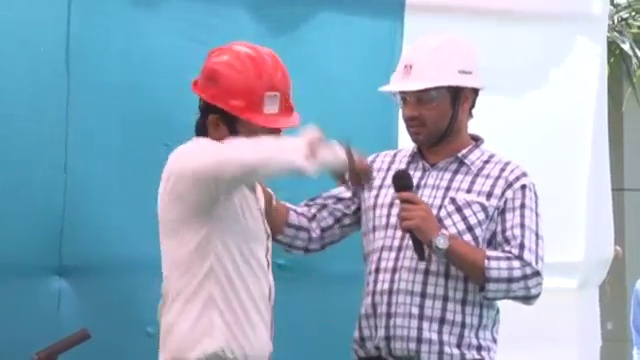helmet: (189, 39, 301, 131), (376, 29, 487, 99)
helmet_on: (375, 29, 489, 157), (187, 37, 300, 141)
person: (258, 28, 548, 360), (153, 38, 371, 360)
